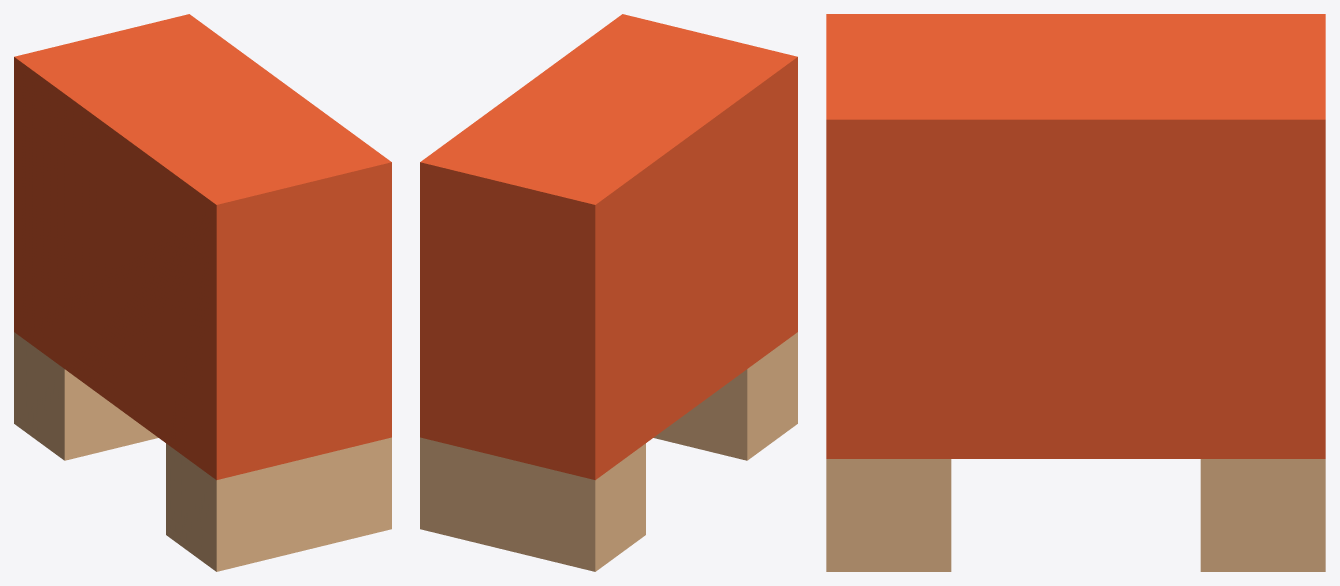
Rendered from body2.obj.
The picture shows the model from 3 angles, left to right: view 1: azimuth 30°, elevation 25°; view 2: azimuth 150°, elevation 25°; view 3: azimuth 270°, elevation 25°; orthographic projection. The views are drawn at different scales.
Bounding box in the file's own units: 0.2 × 0.4 × 0.4.
1 material, 1 textured.
